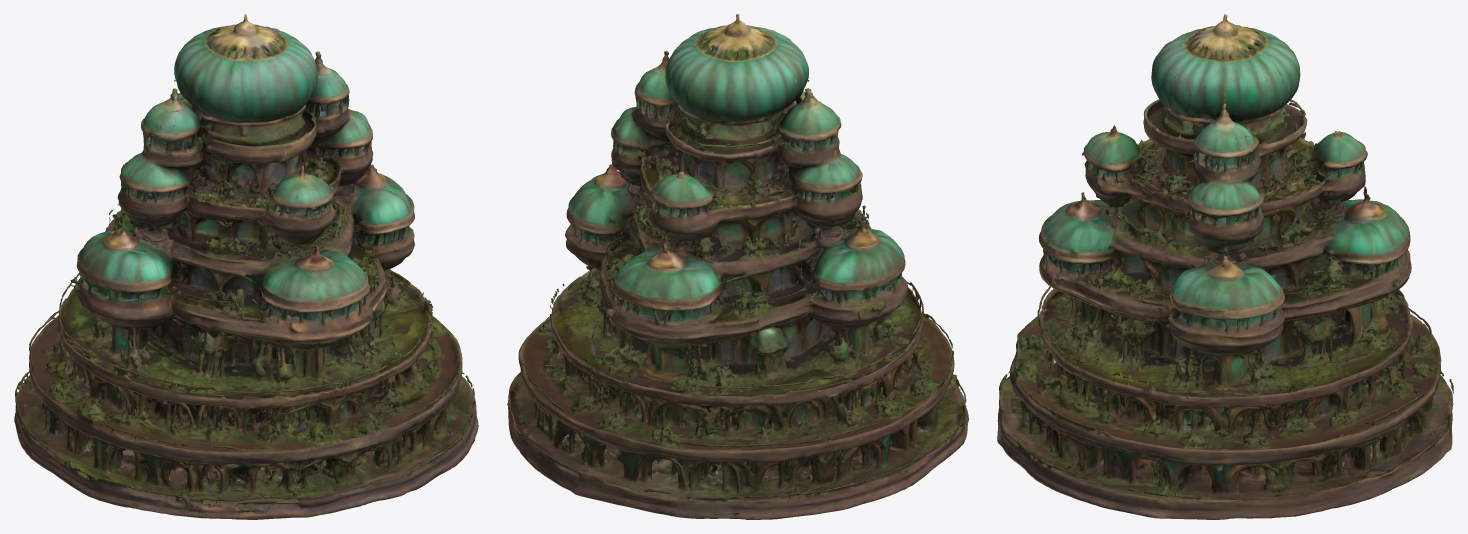
Rendered from Meshy_AI_Verdant_Palace_1016102521_texture.fbx.
3 views of the same model, side by side, from view 1: azimuth 30°, elevation 25°; view 2: azimuth 150°, elevation 25°; view 3: azimuth 270°, elevation 25° (orthographic).
Visible parts, largest first — view 1: Mesh_0; view 2: Mesh_0; view 3: Mesh_0.
Part boxes in pixels (x1=…): Mesh_0: x1=14, y1=14, x2=478, y2=519; Mesh_0: x1=507, y1=14, x2=968, y2=519; Mesh_0: x1=997, y1=14, x2=1453, y2=519.
Size of the model in its own units: 197 by 197 by 198.
Materials: 1 (1 with a texture image).
